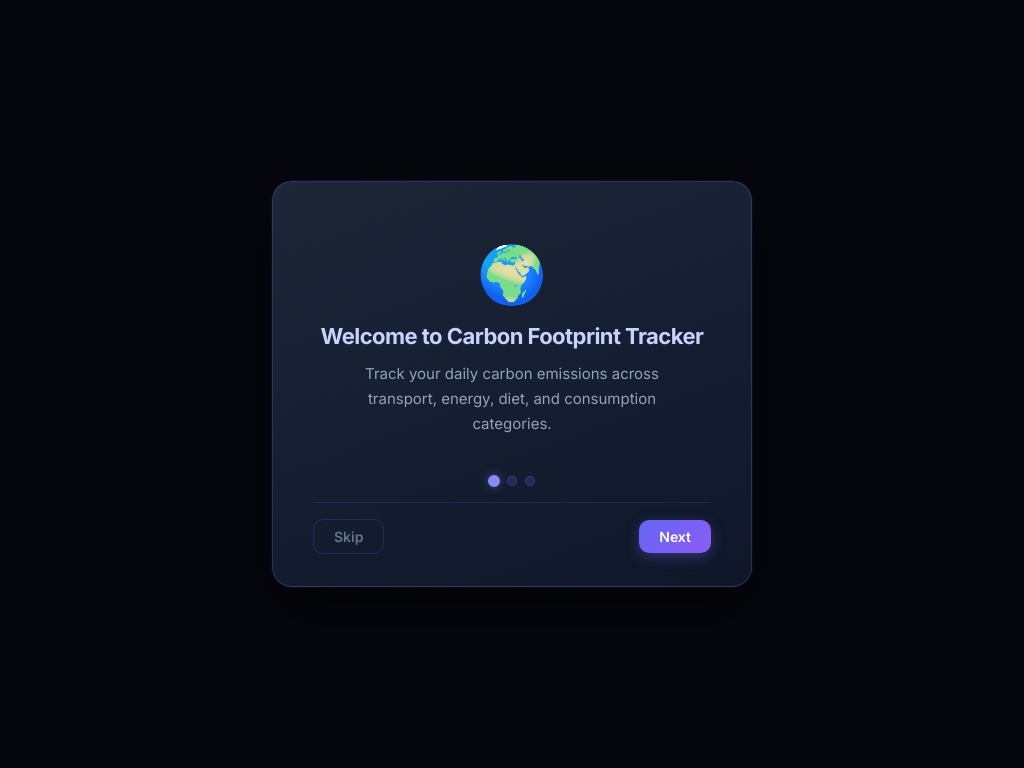
Test case: OnboardingModal › step navigation › shows "Get Started" button on the last step
// Navigate to step 2
Click the button "Next" at (675, 537), box [639,520,711,553]
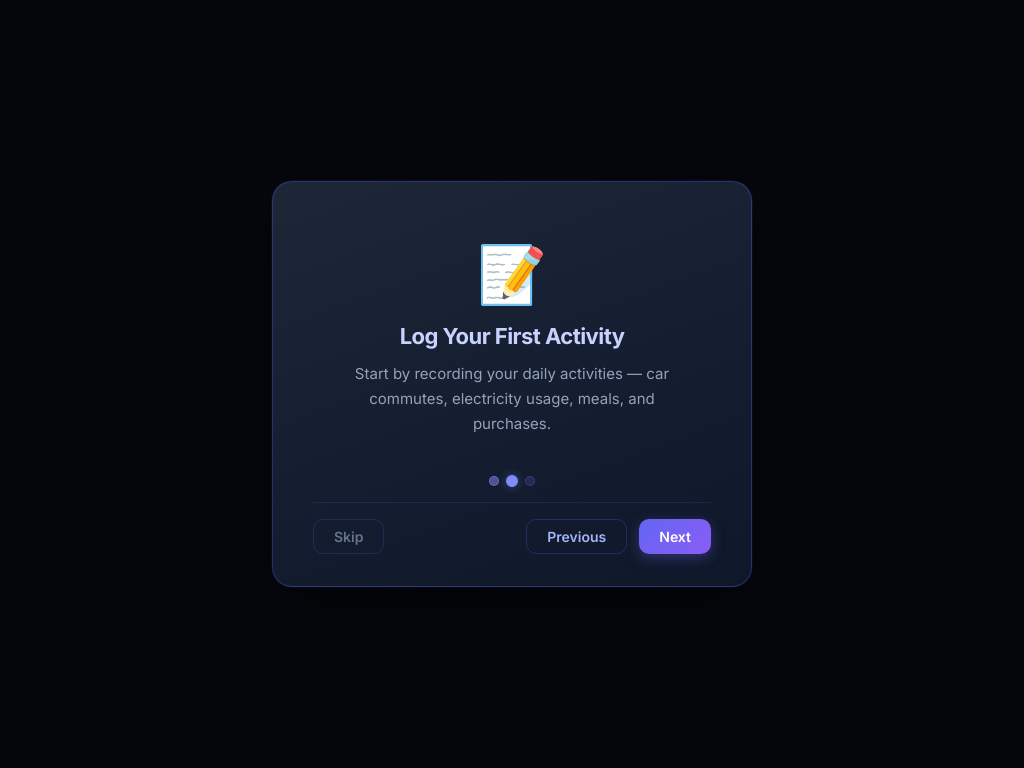
// Navigate to step 3
Click the button "Next" at (675, 537), box [639,519,711,554]
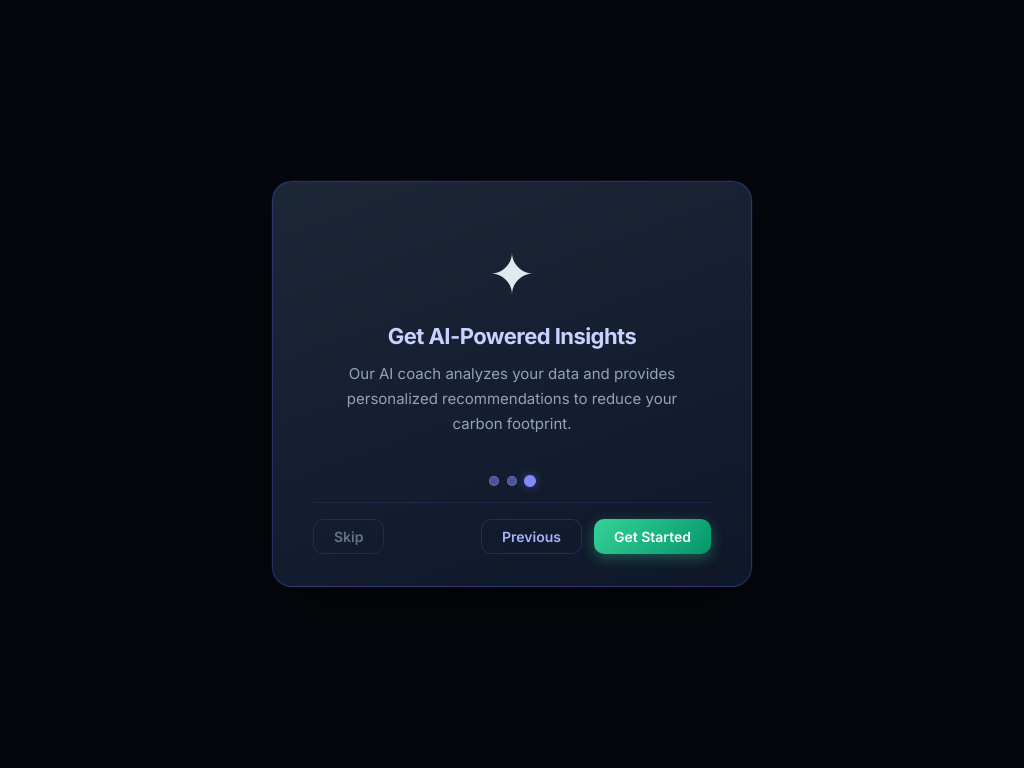
Check: the button "Get Started" is shown, box [594,519,711,554]
Check: the button "Next" is gone
